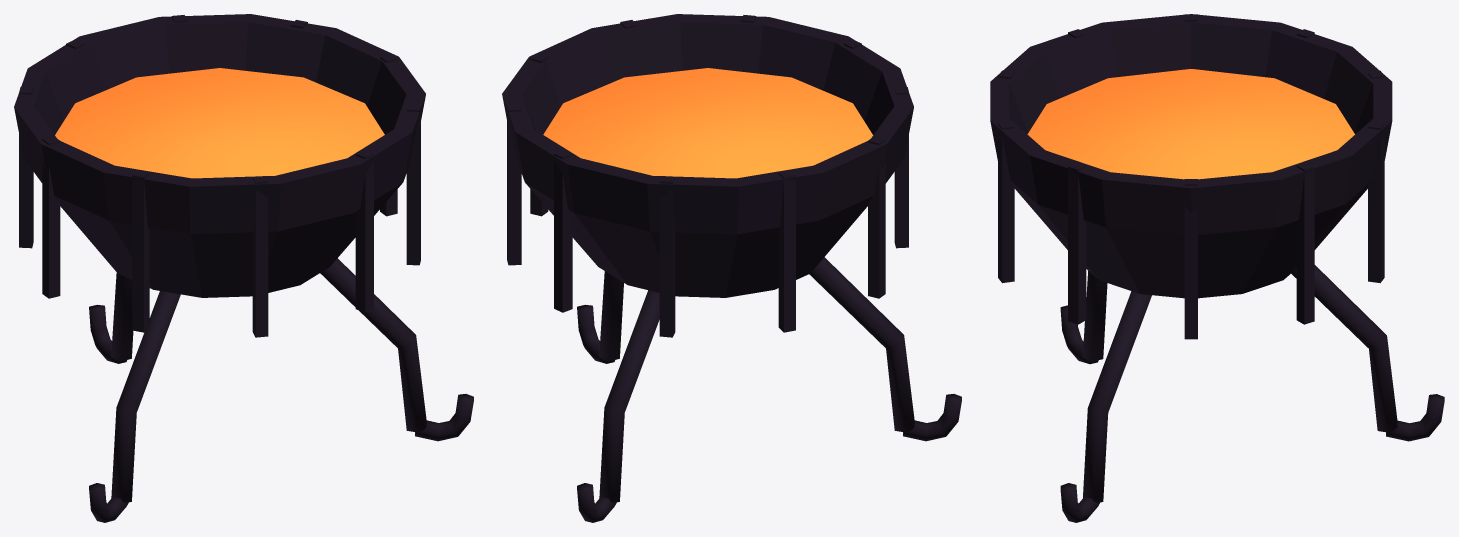
The model's file is brazier.glb.
3 views of the same model, side by side, from view 1: azimuth 30°, elevation 25°; view 2: azimuth 150°, elevation 25°; view 3: azimuth 270°, elevation 25° (orthographic).
Visible parts, largest first — view 1: brazier; view 2: brazier; view 3: brazier.
Boxes of the visible parts, left/top/right/bottom form: brazier: left=14, top=14, right=473, bottom=522; brazier: left=502, top=14, right=961, bottom=522; brazier: left=990, top=14, right=1444, bottom=522.
Bounding box in the file's own units: 0.6773 × 0.5731 × 0.6941.
